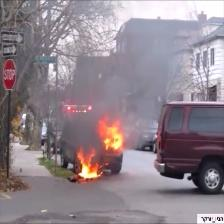fire: (78, 160, 103, 181)
smoke: (93, 62, 156, 123), (69, 124, 96, 149), (106, 129, 123, 152)
